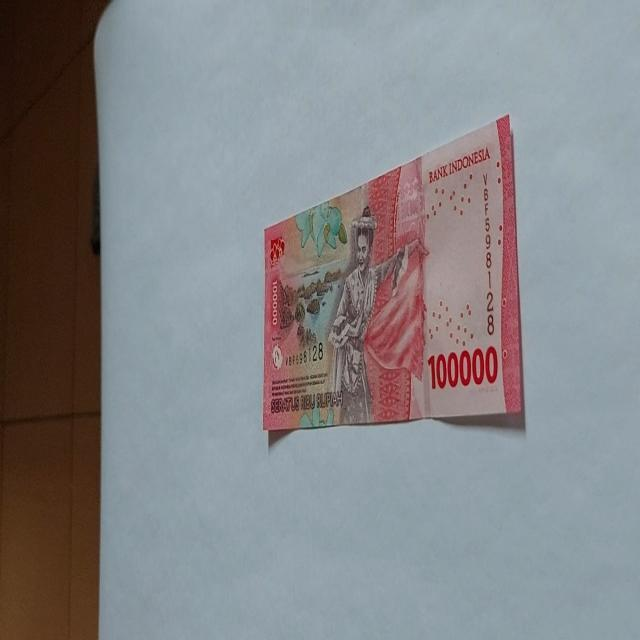seratus ribu rupiah: (262, 112, 524, 436), (327, 203, 407, 424)
